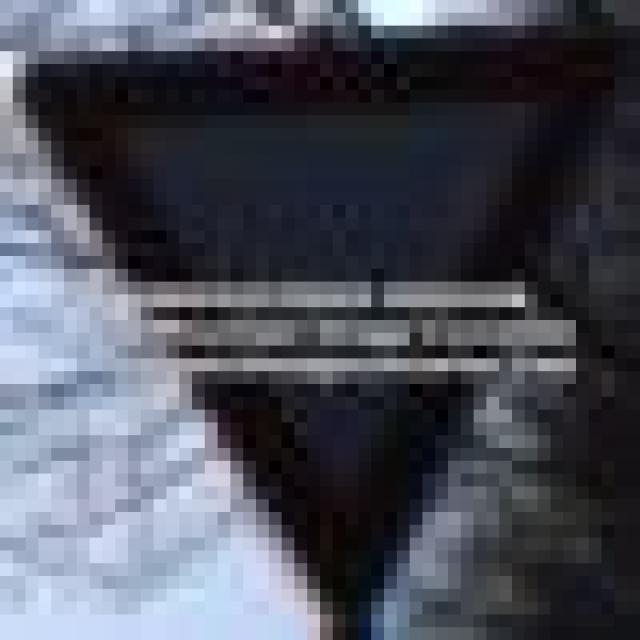GIVE_WAY: (13, 26, 614, 627)
